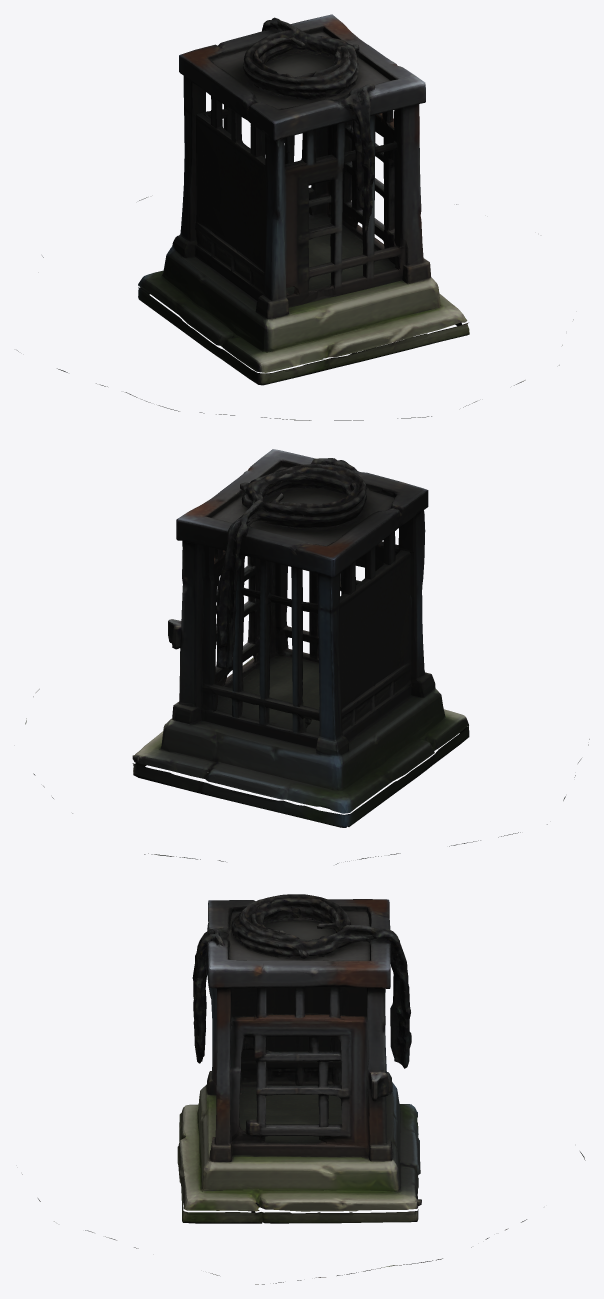
File: cage_iron.glb
The picture shows the model from 3 angles, top to bottom: view 1: azimuth 30°, elevation 25°; view 2: azimuth 150°, elevation 25°; view 3: azimuth 270°, elevation 25°; orthographic projection. The views are drawn at different scales.
Parts seen in each view (by area): view 1: world; view 2: world; view 3: world.
Boxes of the visible parts, <box> form: world: <box>17,14,573,420</box>; world: <box>25,449,589,864</box>; world: <box>22,894,585,1284</box>.
Size of the model in its own units: 0.9927 by 0.4824 by 0.9767.
1 material, 1 textured.
